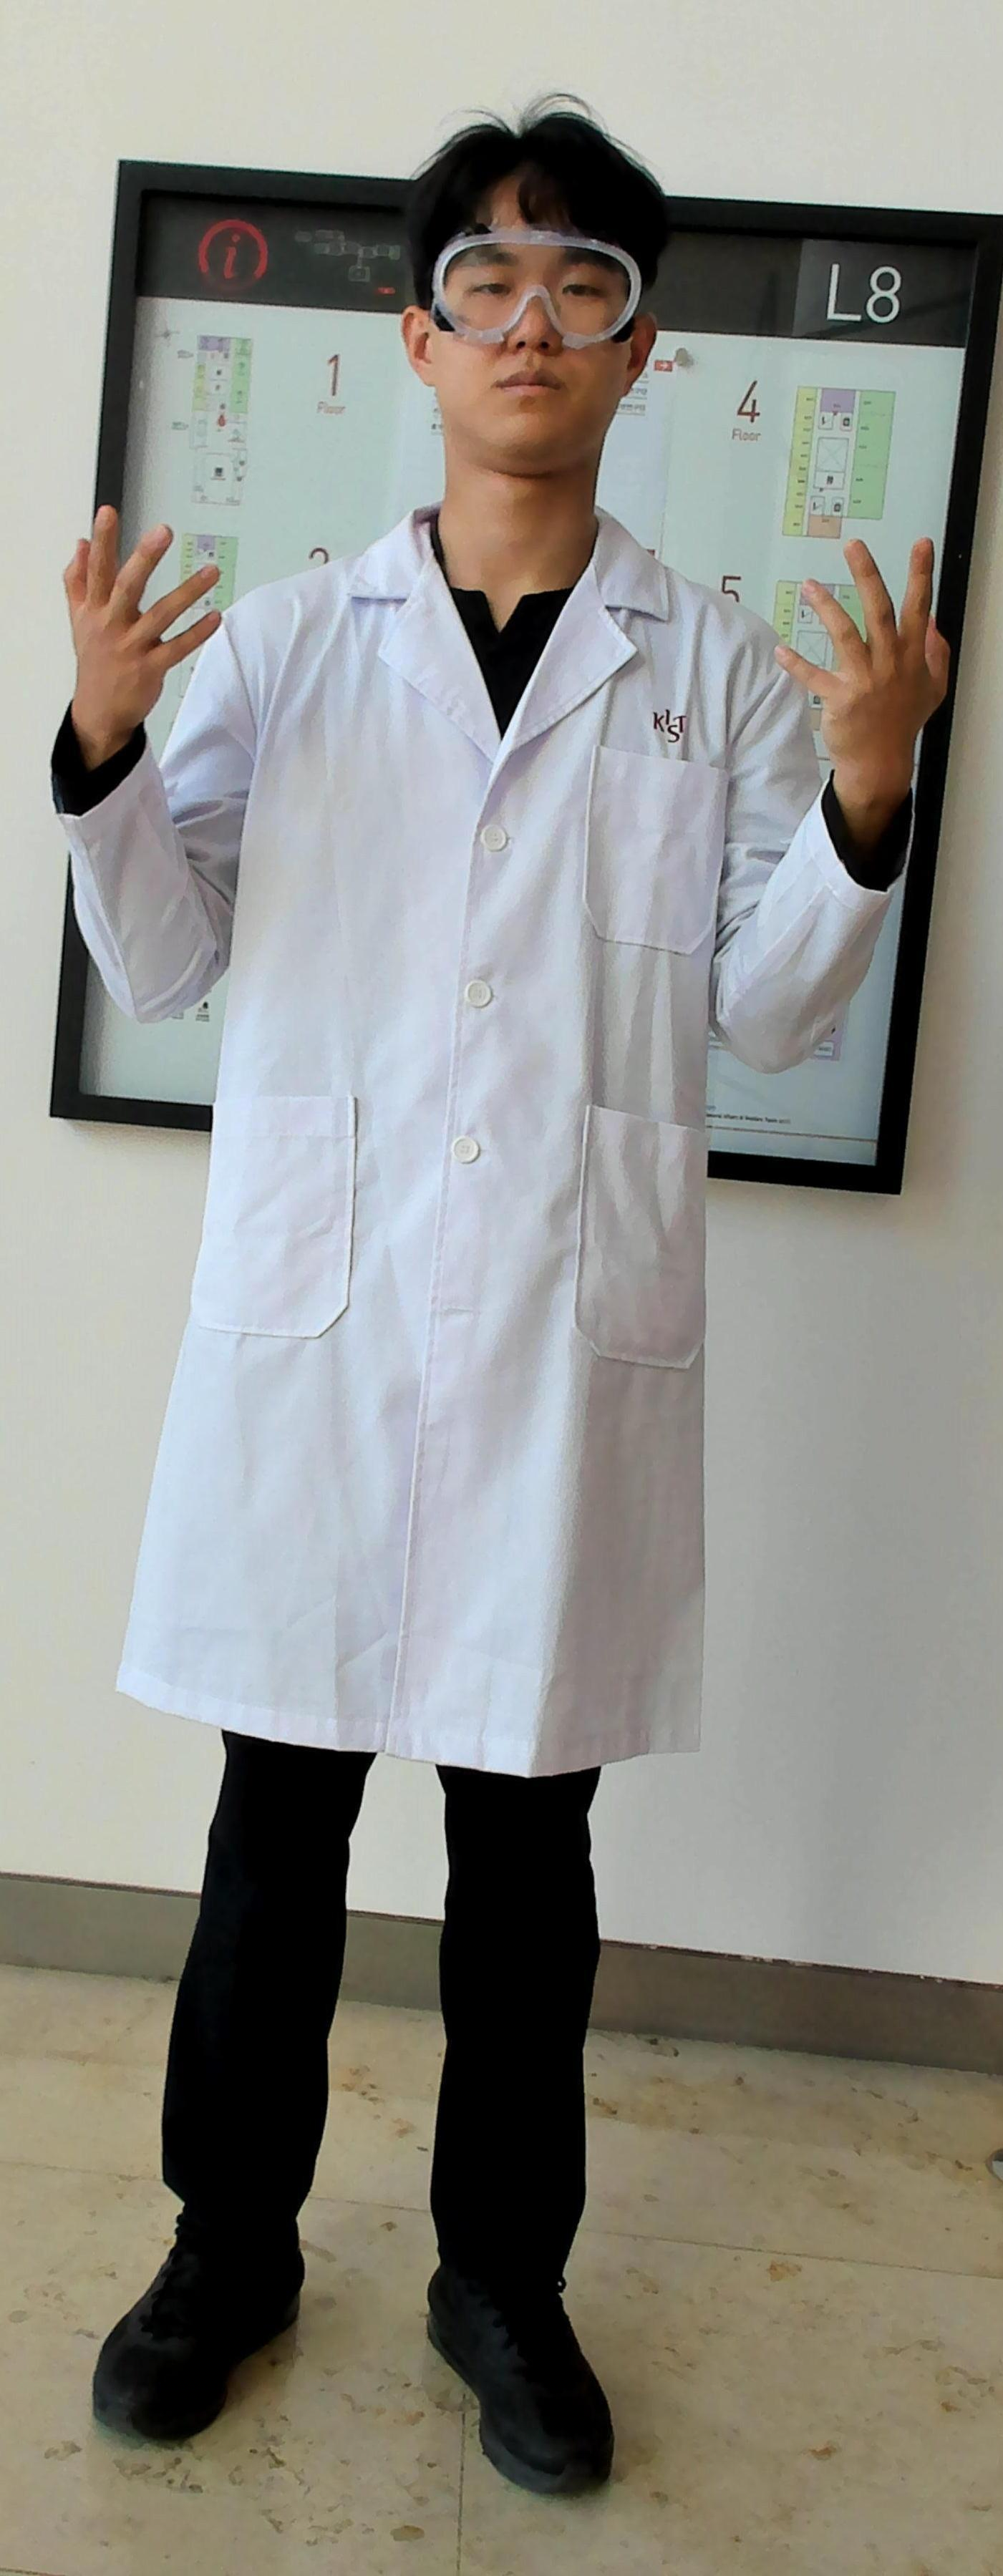lab_coat: (224, 618, 753, 1723)
